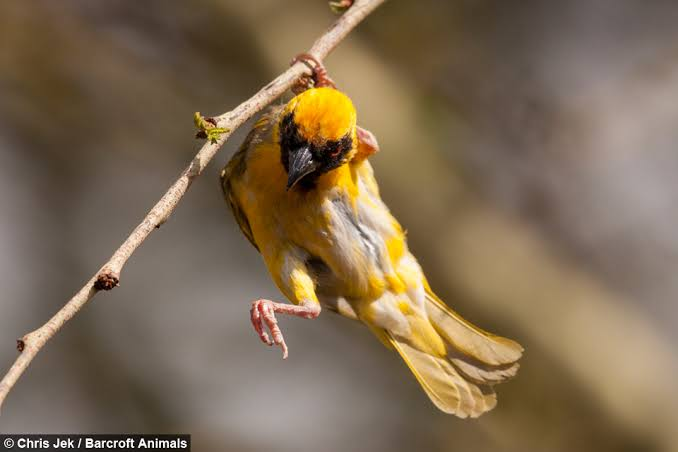target: (216, 80, 532, 422)
